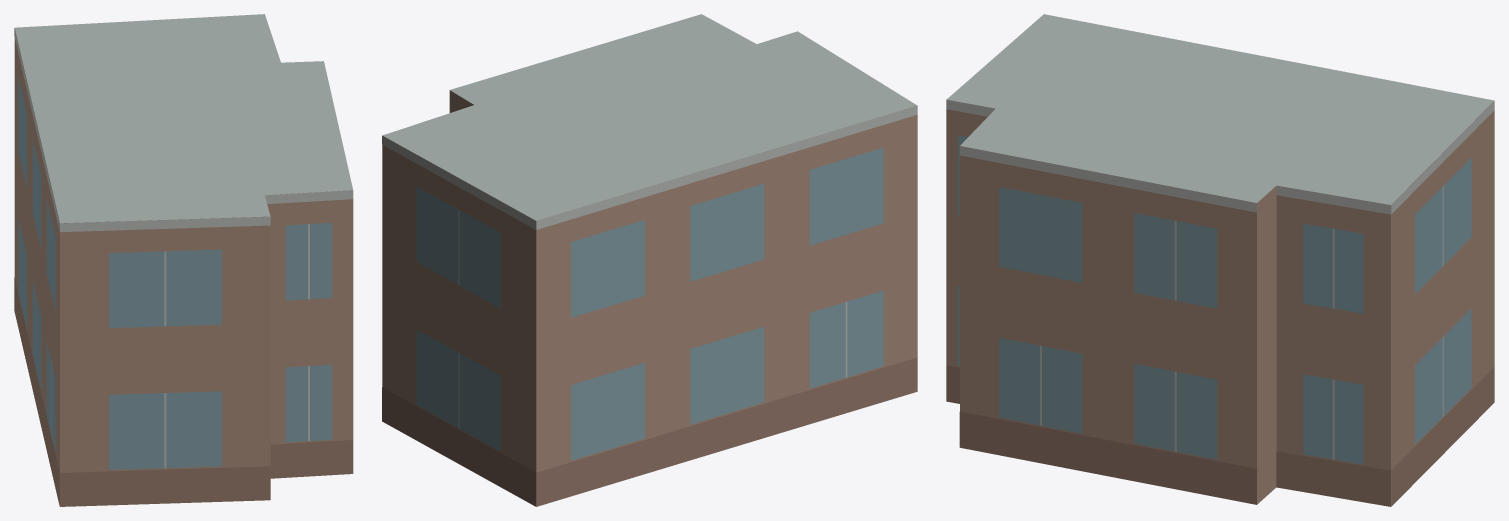
Rendered from survey-upis-32501309.glb.
The picture shows the model from 3 angles, left to right: view 1: azimuth 30°, elevation 25°; view 2: azimuth 150°, elevation 25°; view 3: azimuth 270°, elevation 25°; orthographic projection. The views are drawn at different scales.
Visible parts, largest first — view 1: survey-upis-32501309.tmp; view 2: survey-upis-32501309.tmp; view 3: survey-upis-32501309.tmp.
Boxes of the visible parts, box(x1,y1,x2,y2) form: survey-upis-32501309.tmp: box(14, 14, 353, 506); survey-upis-32501309.tmp: box(382, 14, 917, 506); survey-upis-32501309.tmp: box(946, 14, 1494, 506).
Size of the model in its own units: 10.47 by 7.7 by 12.69.
